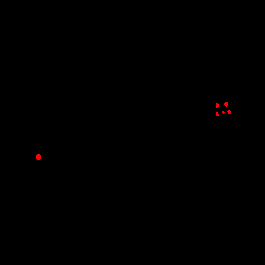Target: (36, 154, 41, 160), (224, 102, 228, 107), (227, 110, 231, 114), (216, 103, 219, 108), (216, 112, 219, 116), (222, 111, 225, 114)
